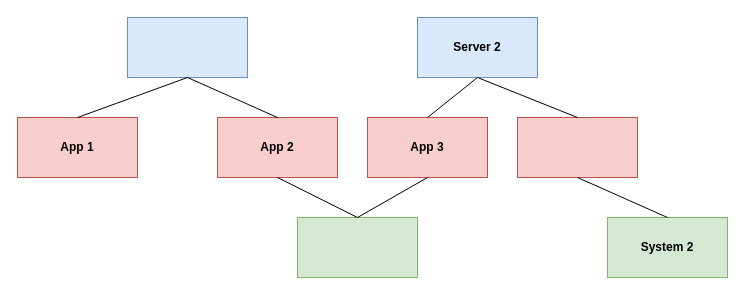
Some shapes in this 745 by 295 pixel diagram are drawn without their labels. Each missing label, with the box of its shape:
App 4: (516, 116, 638, 178)
Server 1: (126, 16, 248, 78)
System 1: (296, 216, 418, 278)
